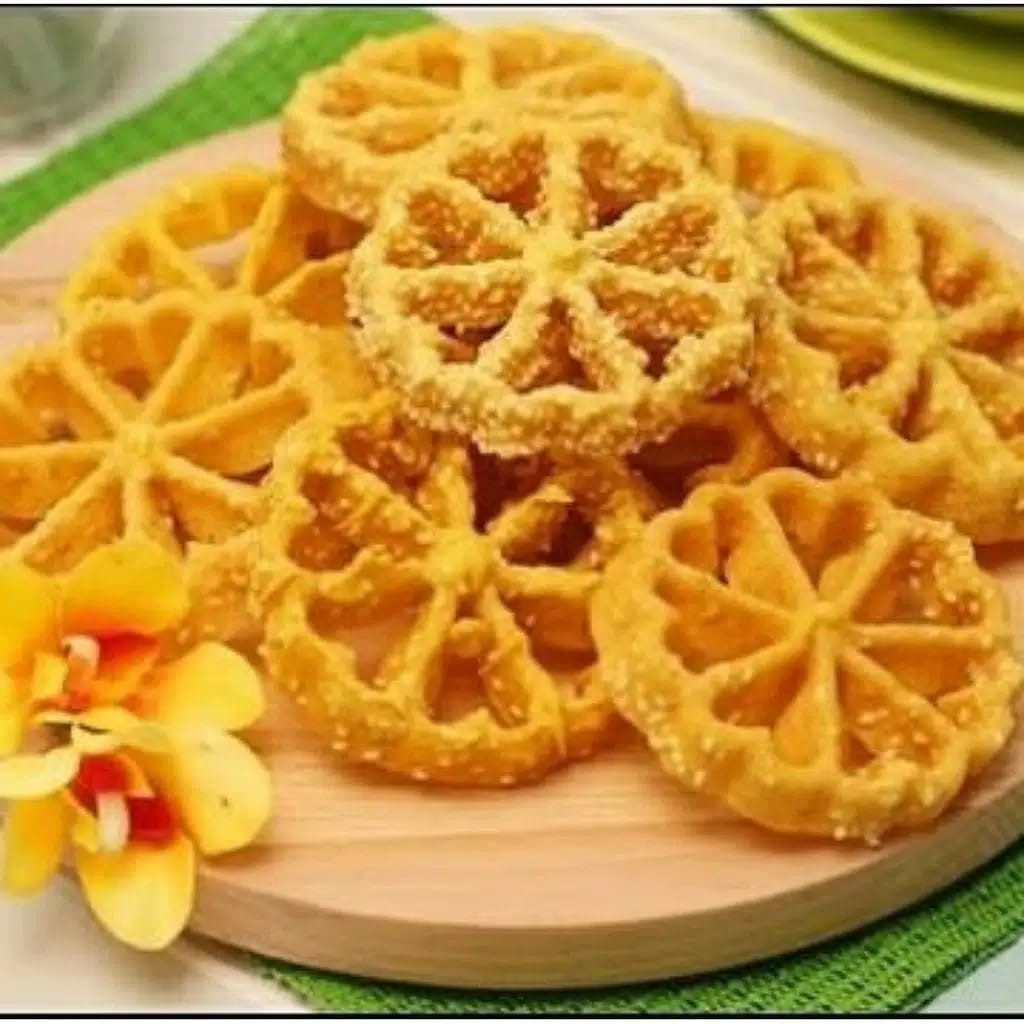kembang_goyang: (589, 453, 988, 822), (387, 111, 773, 476)
